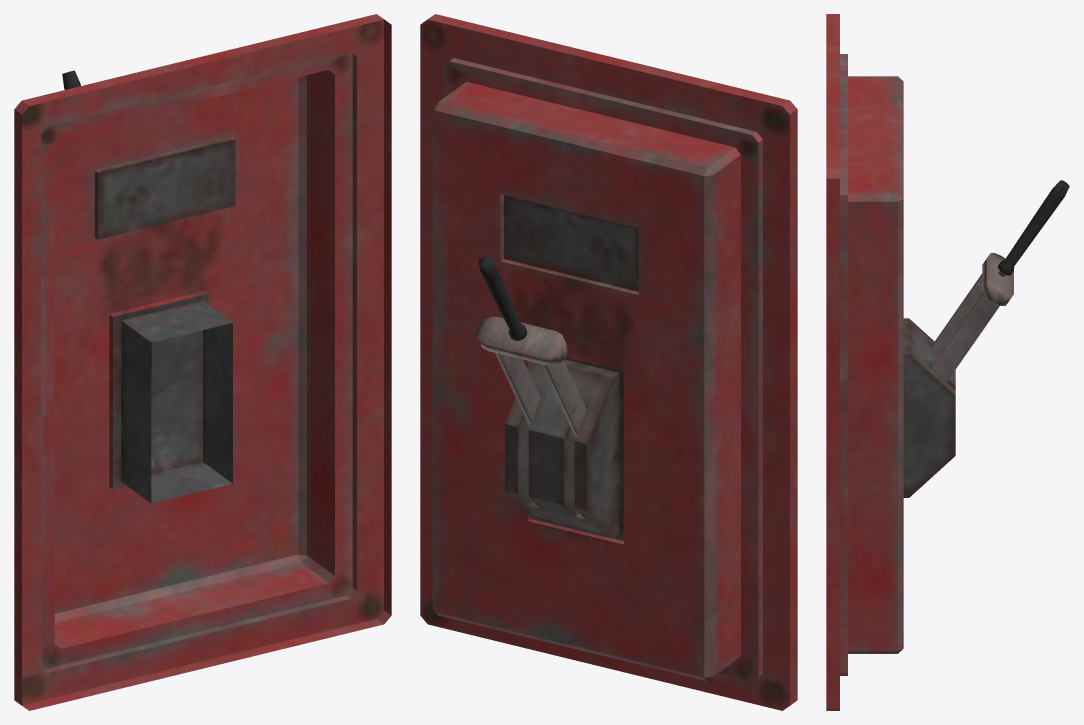
The model's file is sewer-lever.glb.
The picture shows the model from 3 angles, left to right: view 1: azimuth 30°, elevation 25°; view 2: azimuth 150°, elevation 25°; view 3: azimuth 270°, elevation 25°; orthographic projection. The views are drawn at different scales.
Visible parts, largest first — view 1: Panel; view 2: Panel, Lever; view 3: Panel, Lever.
Boxes of the visible parts, x1,y1,x2,y2 form: Panel: (14,14,391,710); Panel: (420,14,797,710); Lever: (476,256,586,437); Panel: (826,14,955,710); Lever: (931,180,1069,382).
Size of the model in its own units: 26.37 by 41.24 by 16.78.
2 materials, 2 textured.
